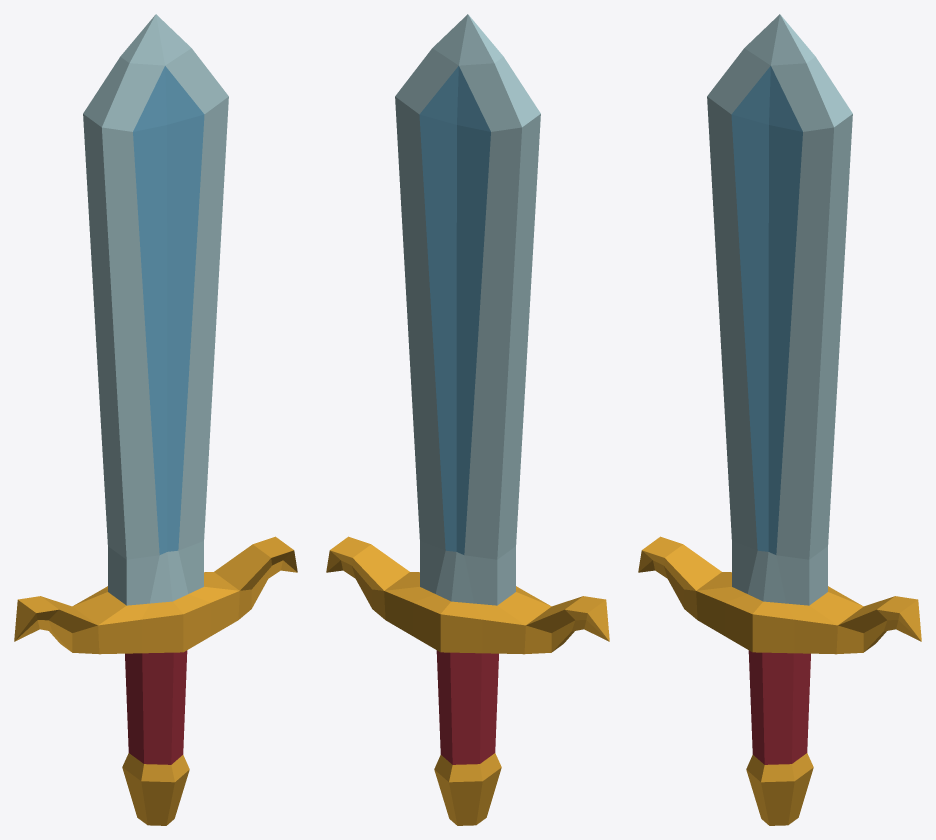
Rendered from Dragon Killing Sword.fbx.
3 renders of one model, left to right at view 1: azimuth 30°, elevation 25°; view 2: azimuth 150°, elevation 25°; view 3: azimuth 330°, elevation 25°, orthographic.
Visible parts, largest first — view 1: Cylinder; view 2: Cylinder; view 3: Cylinder.
Boxes of the visible parts, bbox=[...] form: Cylinder: bbox=[14, 14, 297, 825]; Cylinder: bbox=[326, 14, 609, 825]; Cylinder: bbox=[638, 14, 921, 825].
Bounding box in the file's own units: 404 × 1094 × 136.
